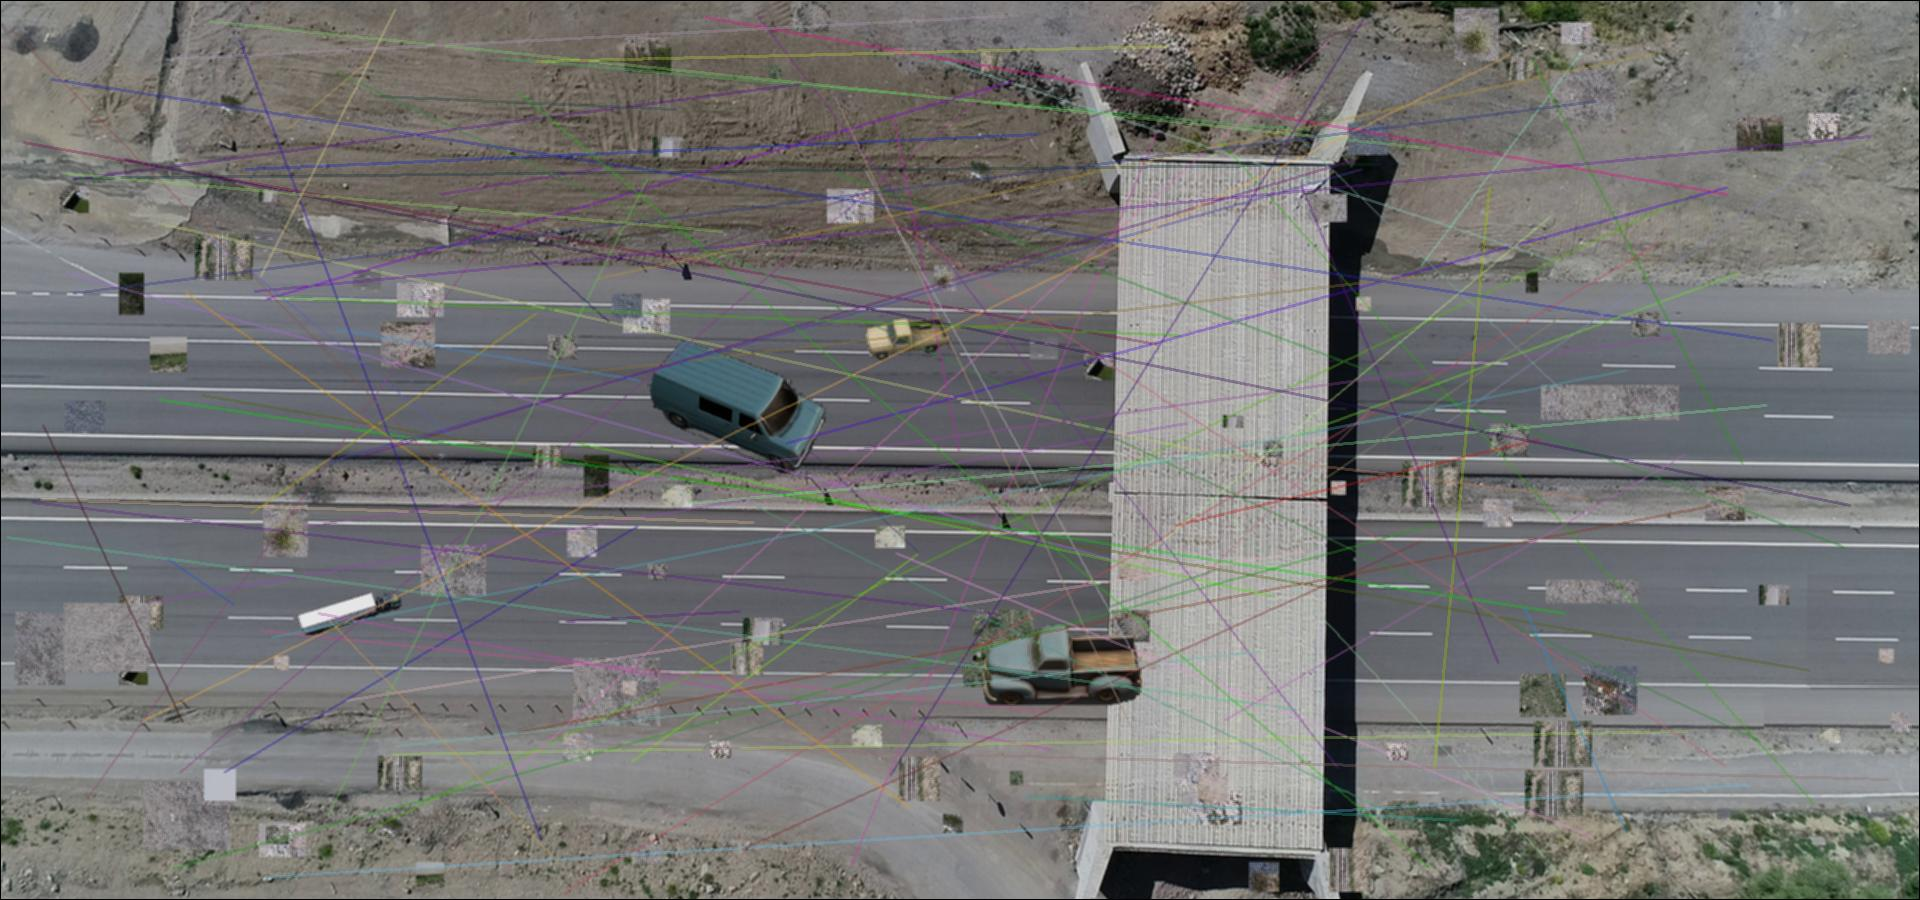arac: (648, 337, 827, 475), (982, 624, 1142, 705), (295, 588, 402, 636), (864, 315, 951, 361)
